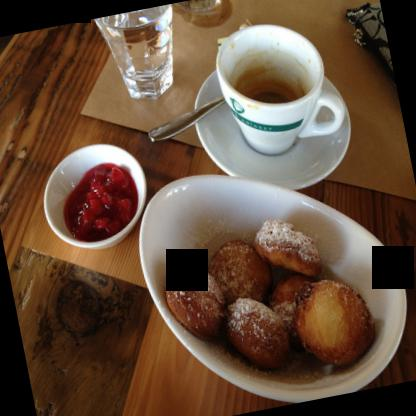handbag: (345, 1, 397, 92)
